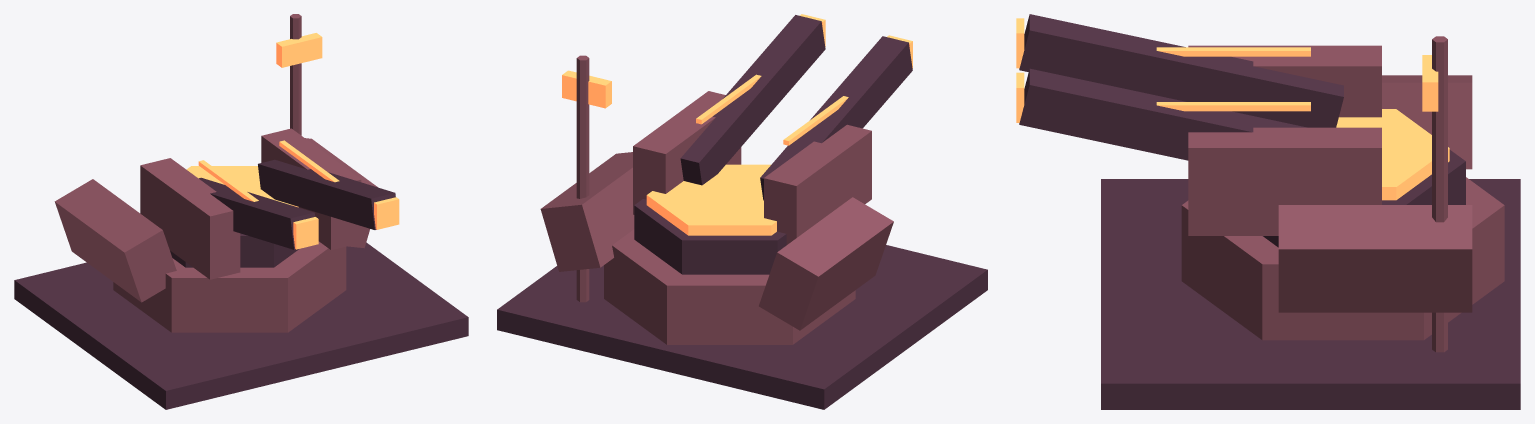
The model's file is raid-low.glb.
The picture shows the model from 3 angles, left to right: view 1: azimuth 30°, elevation 25°; view 2: azimuth 150°, elevation 25°; view 3: azimuth 270°, elevation 25°; orthographic projection. The views are drawn at different scales.
Parts seen in each view (by area): view 1: raid-low-Parasite obsidian, raid-low-Parasite armored carapace, raid-low-Parasite plasma ceramic; view 2: raid-low-Parasite obsidian, raid-low-Parasite armored carapace, raid-low-Parasite plasma ceramic; view 3: raid-low-Parasite obsidian, raid-low-Parasite armored carapace, raid-low-Parasite plasma ceramic.
Boxes of the visible parts, box(x1,y1,x2,y2) form: raid-low-Parasite obsidian: box(14, 159, 468, 409); raid-low-Parasite armored carapace: box(54, 14, 377, 332); raid-low-Parasite plasma ceramic: box(186, 33, 399, 249); raid-low-Parasite obsidian: box(497, 15, 987, 409); raid-low-Parasite armored carapace: box(540, 55, 893, 344); raid-low-Parasite plasma ceramic: box(562, 14, 912, 235); raid-low-Parasite obsidian: box(1019, 14, 1520, 409); raid-low-Parasite armored carapace: box(1181, 36, 1504, 352); raid-low-Parasite plasma ceramic: box(1016, 18, 1449, 200).
Bounding box in the file's own units: 15 × 11.5 × 15.62.
